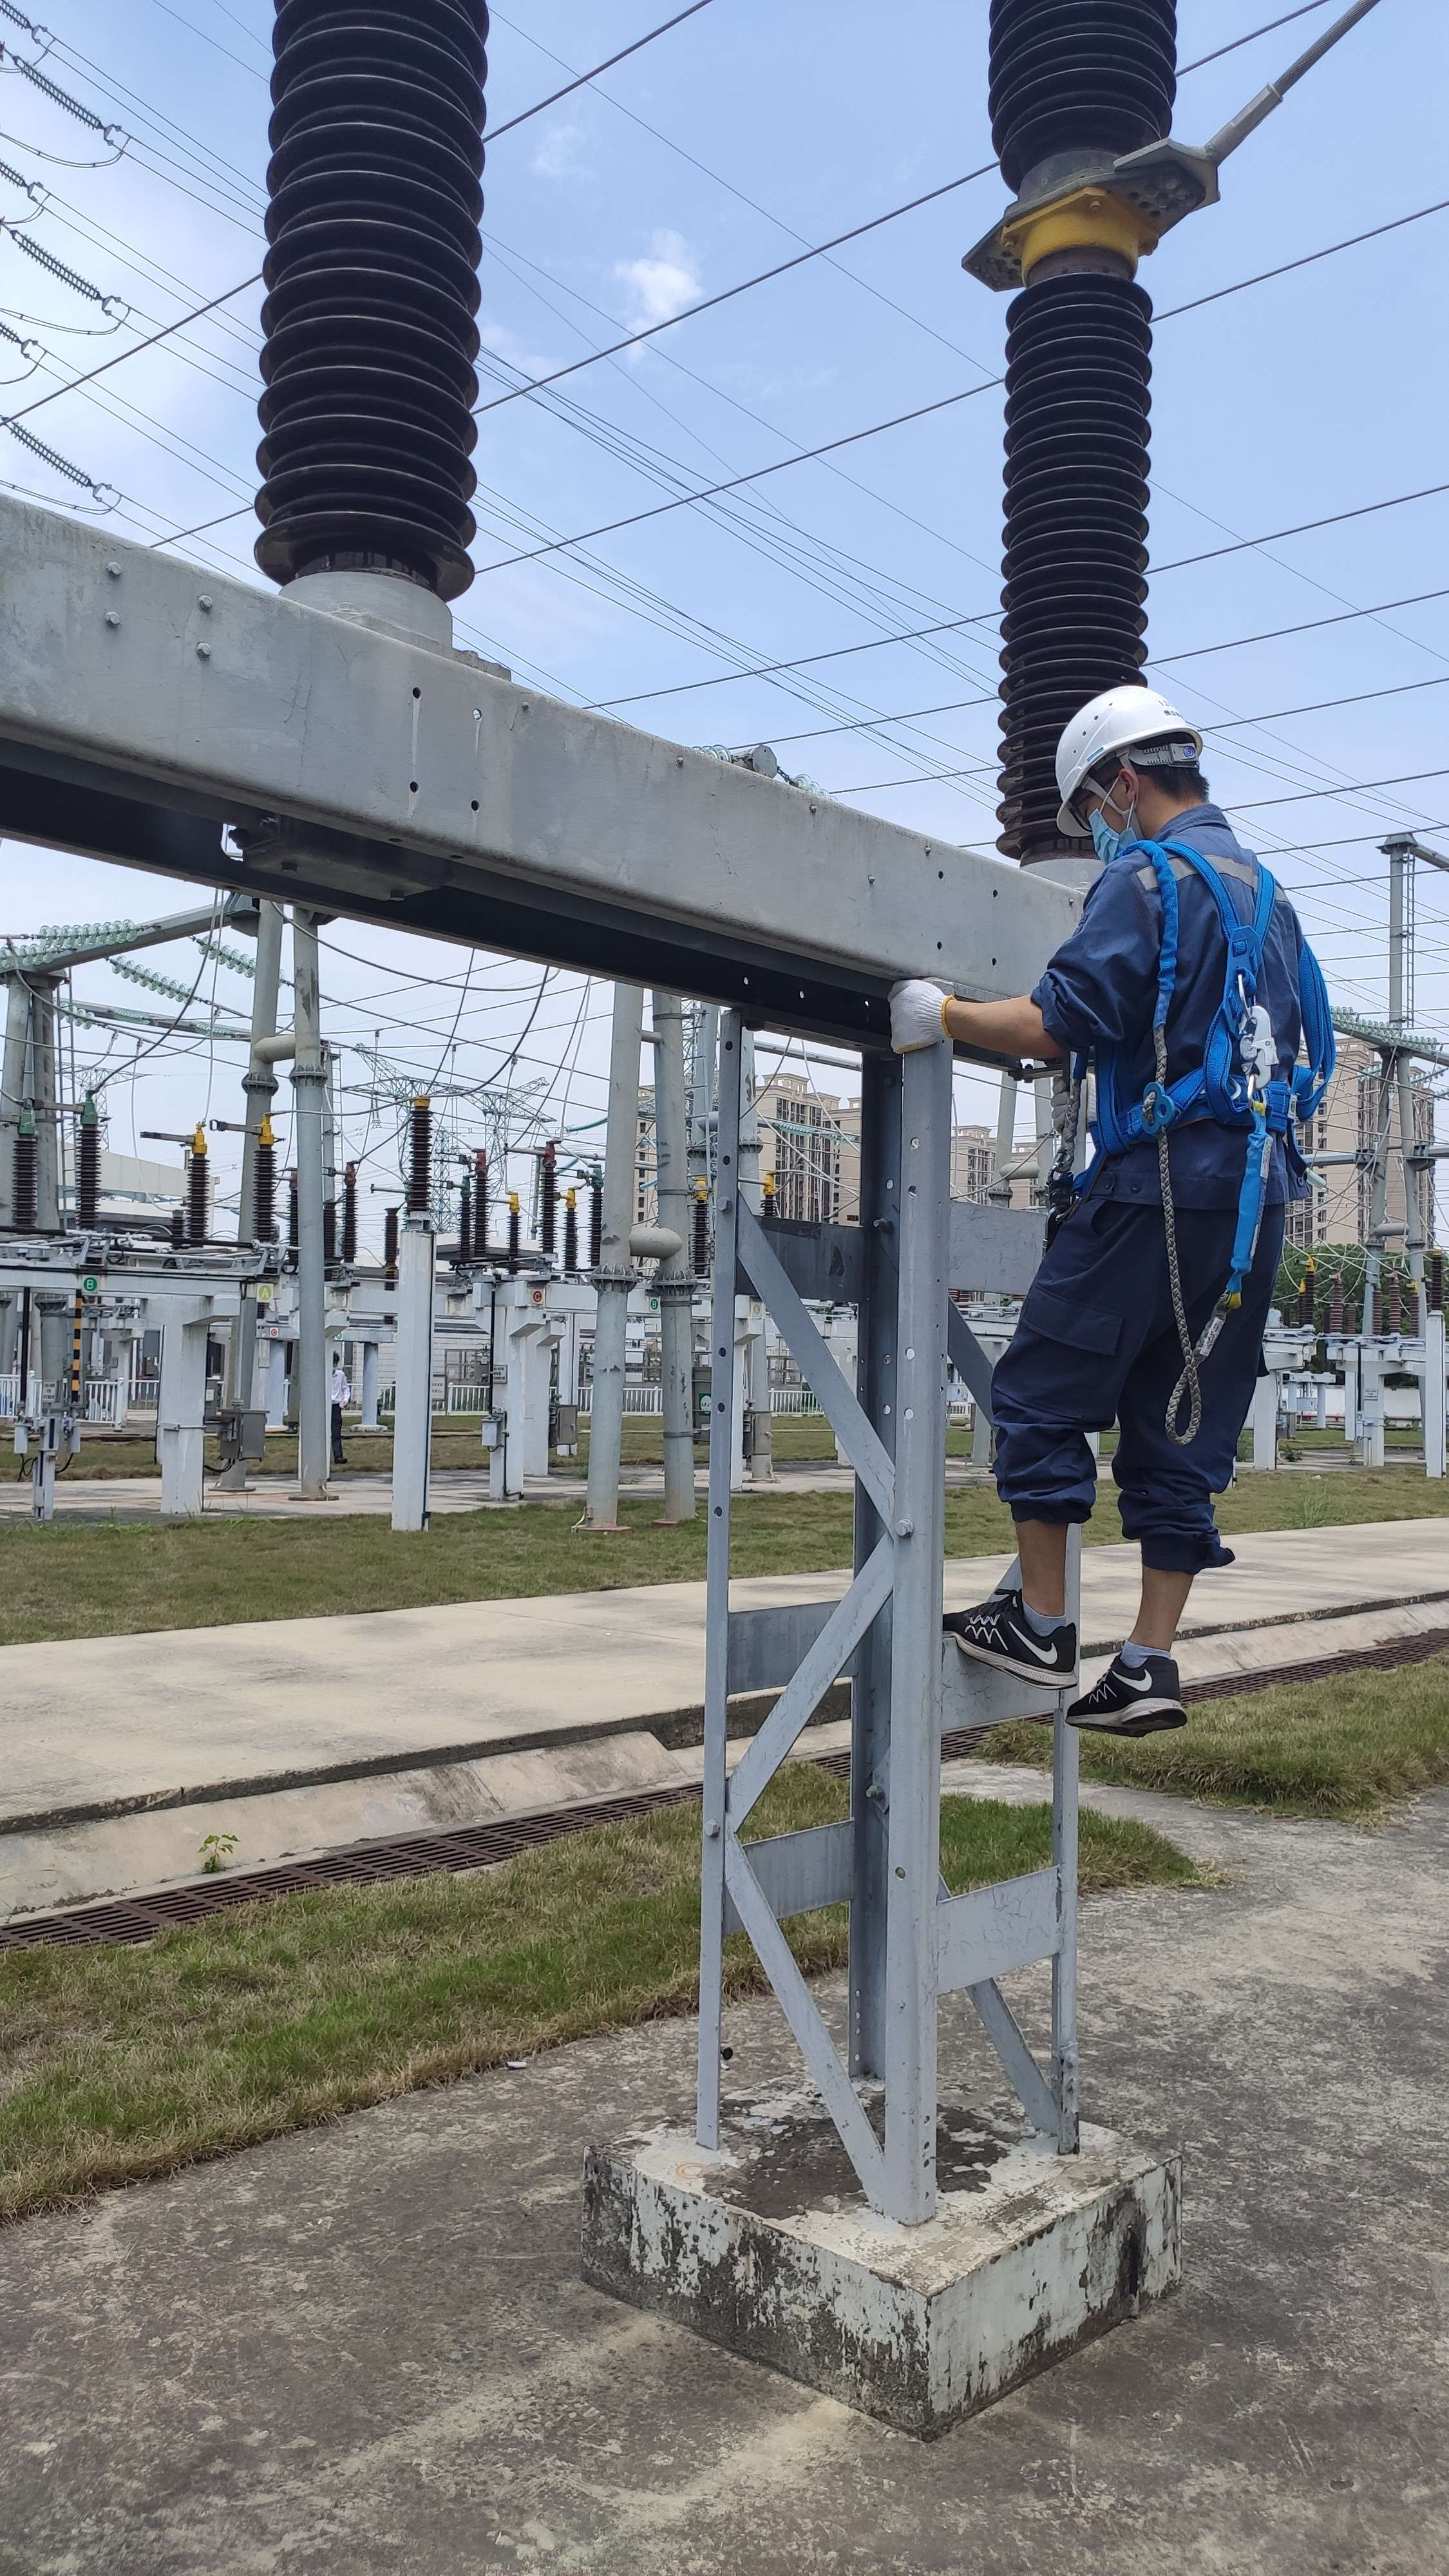downsuit: (989, 1159, 1304, 1545)
upsuit: (1016, 810, 1323, 1198)
wrongbottom: (991, 1479, 1231, 1667)
wrongtop: (878, 966, 1097, 1067)
